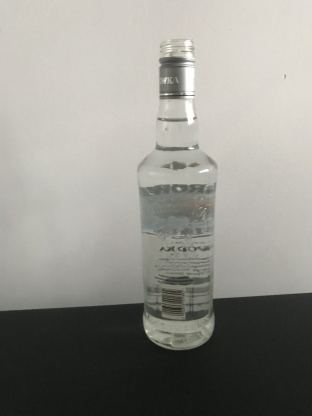nakretka: (157, 36, 197, 100)
